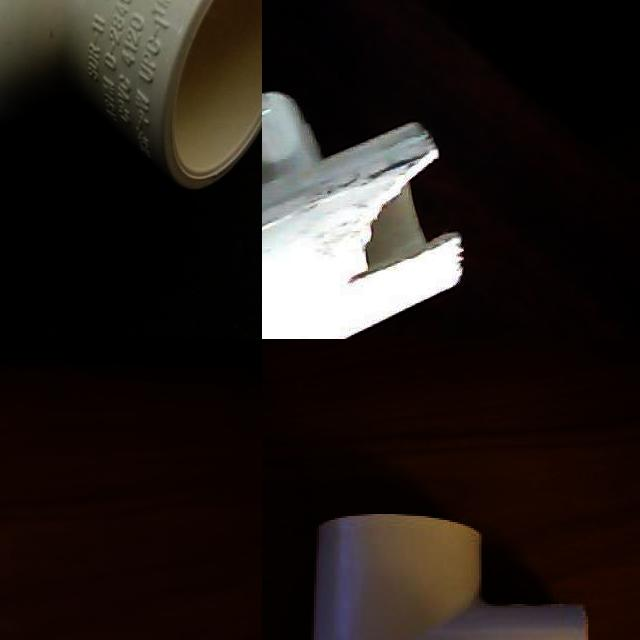Defective: (332, 142, 488, 298)
T Joint: (262, 91, 465, 339), (308, 513, 591, 640)
